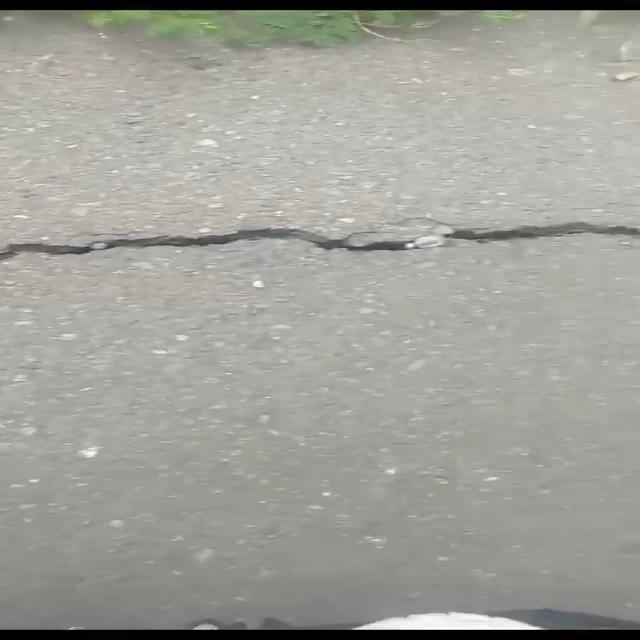Melintang: (0, 207, 640, 278)
